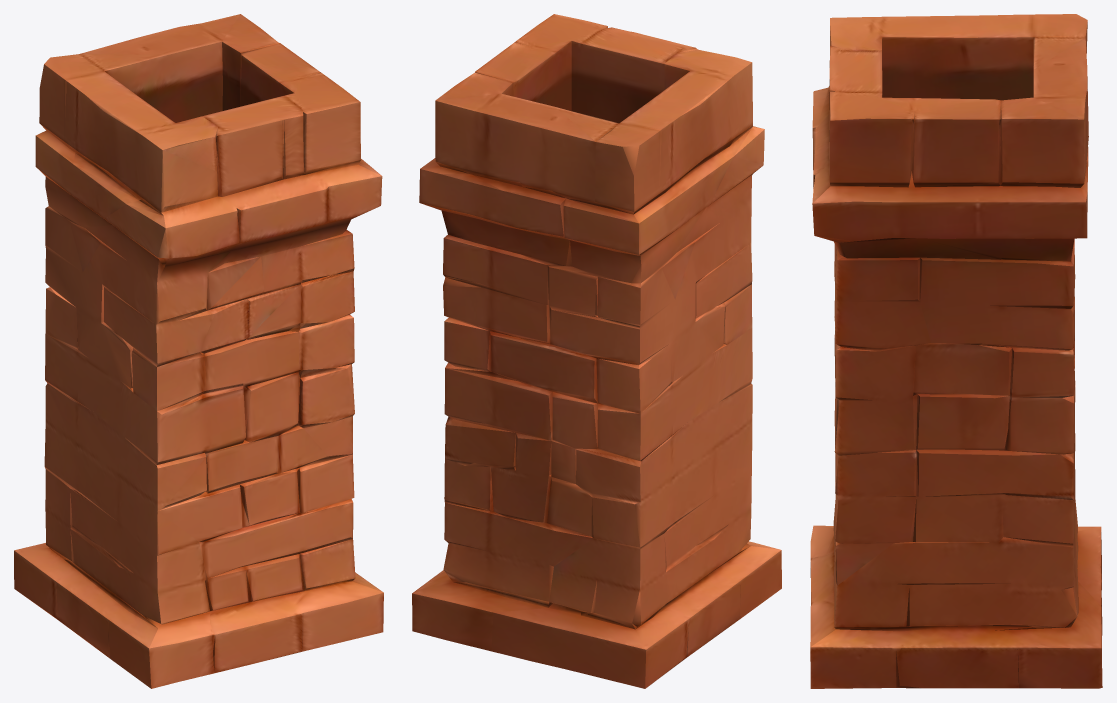
File: m2Chimney.glb
3 views of the same model, side by side, from view 1: azimuth 30°, elevation 25°; view 2: azimuth 150°, elevation 25°; view 3: azimuth 270°, elevation 25° (orthographic). The views are drawn at different scales.
Visible parts, largest first — view 1: model; view 2: model; view 3: model.
Part boxes in pixels (bbox=[...]): model: bbox=[14, 14, 383, 688]; model: bbox=[412, 14, 781, 688]; model: bbox=[810, 14, 1102, 688].
Bounding box in the file's own units: 0.8795 × 1.9 × 0.8931.
1 material, 1 textured.
